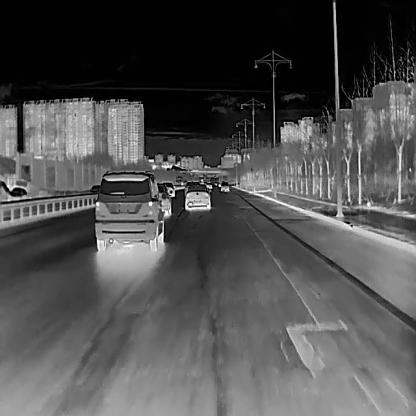car: (94, 171, 165, 251), (185, 183, 210, 210), (156, 183, 170, 217), (8, 186, 26, 198), (219, 180, 229, 190)
